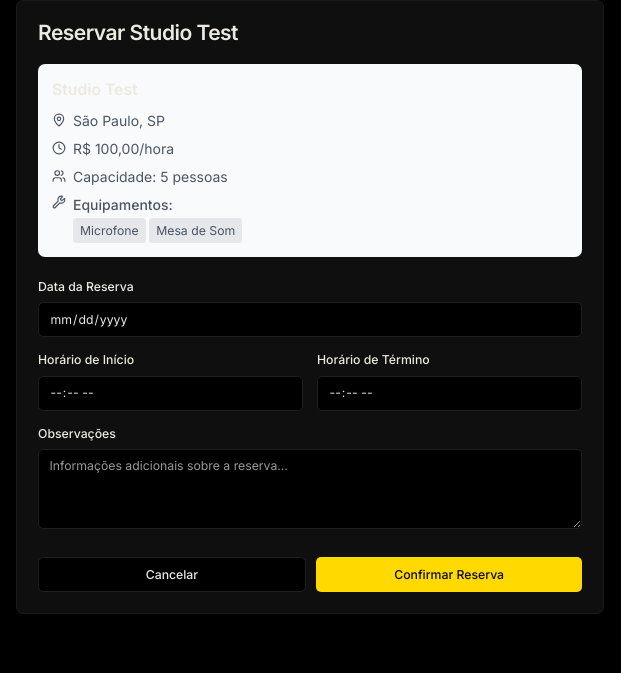
Test: BookingForm › deve validar campos obrigatórios
Click the button "Confirmar Reserva".
click(449, 574)  # box [316,557,582,592]
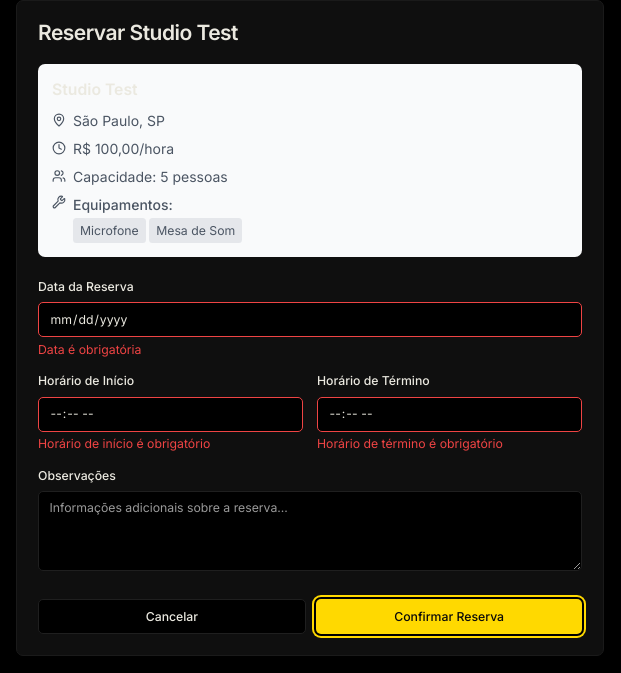
Now the text "Data é obrigatória" is shown, box [38,342,142,356]
Now the text "Horário de início é obrigatório" is shown, box [38,436,210,451]
Now the text "Horário de término é obrigatório" is shown, box [317,436,503,451]
